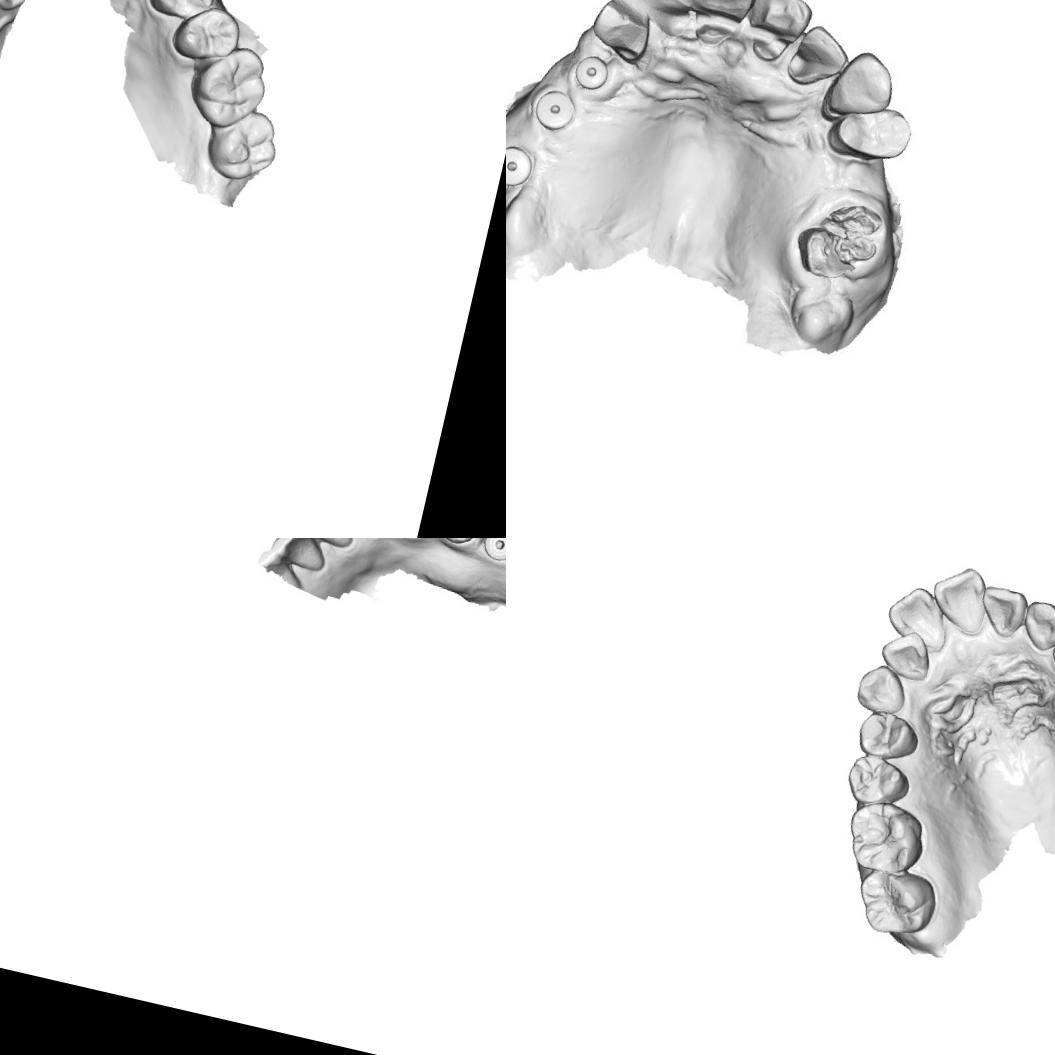canine: (821, 42, 902, 129), (584, 0, 663, 68), (850, 659, 912, 719), (1016, 593, 1055, 658)
implant: (568, 47, 618, 105), (529, 84, 583, 134), (506, 135, 540, 195), (479, 538, 506, 567)
incisor: (880, 580, 957, 656), (924, 559, 996, 638), (784, 19, 852, 100), (739, 0, 812, 65), (685, 0, 761, 51), (874, 625, 937, 684), (974, 582, 1034, 643), (636, 0, 701, 41), (266, 538, 333, 575), (293, 538, 362, 551)
molar: (182, 36, 276, 137), (839, 795, 933, 881), (199, 101, 287, 192), (850, 862, 942, 944)
premolar: (822, 98, 917, 175), (166, 0, 246, 71), (841, 750, 916, 814), (853, 708, 924, 766), (142, 0, 227, 28)
